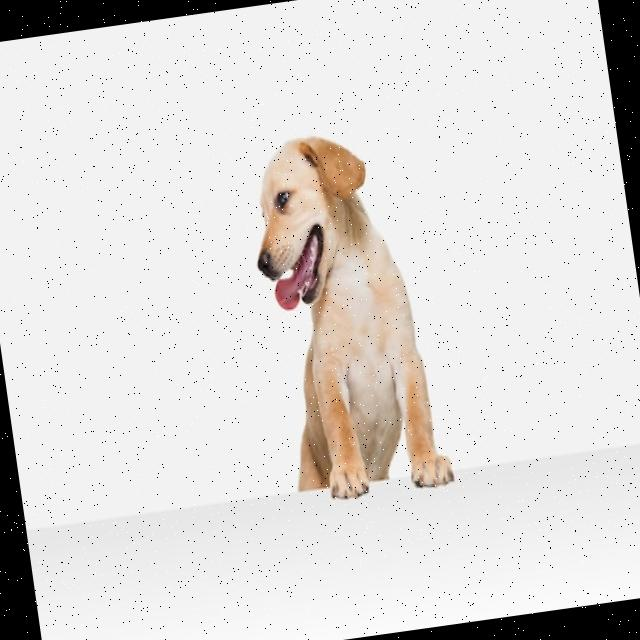Dog: (242, 124, 458, 505)
